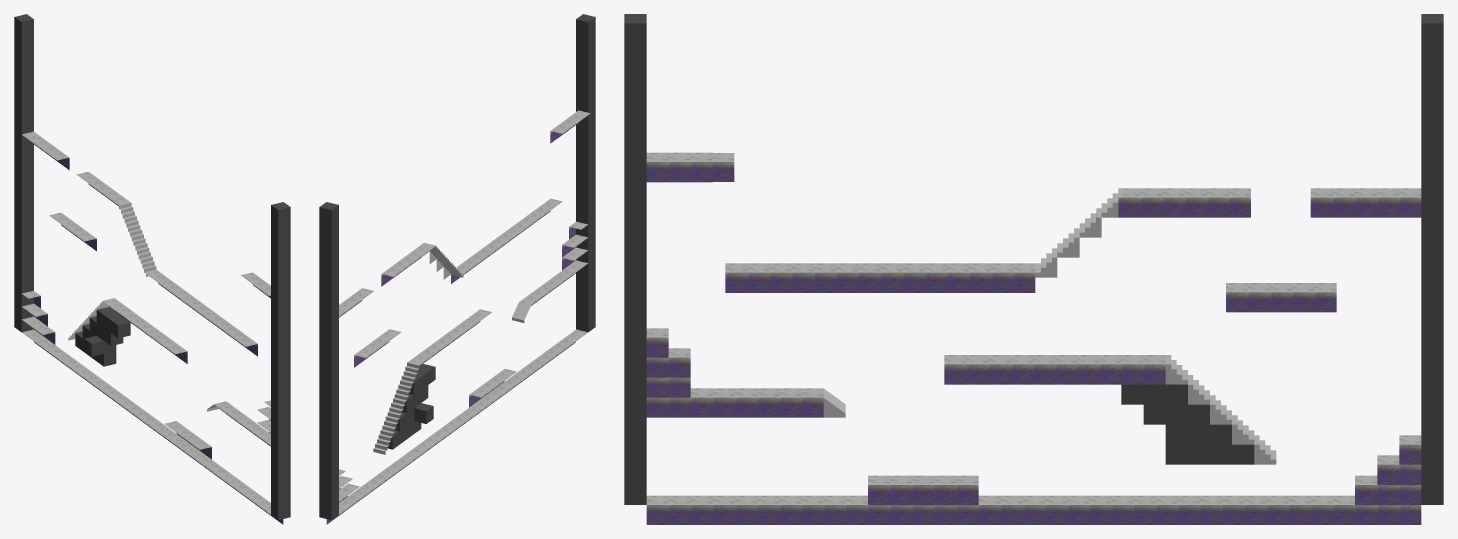
The model's file is MDL_stage_a.fbx.
The picture shows the model from 3 angles, left to right: view 1: azimuth 30°, elevation 25°; view 2: azimuth 150°, elevation 25°; view 3: azimuth 270°, elevation 25°; orthographic projection. The views are drawn at different scales.
Visible parts, largest first — view 1: pCube12; view 2: pCube12; view 3: pCube12.
Part boxes in pixels (x1,y1,x2,y2): pCube12: (14,14,290,524); pCube12: (319,14,595,524); pCube12: (624,14,1443,524).
Size of the model in its own units: 200 by 2500 by 3700.
4 materials, 1 textured.
